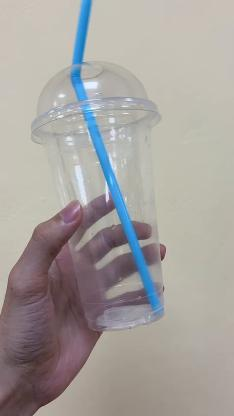Plastic Cup: (30, 61, 166, 331)
